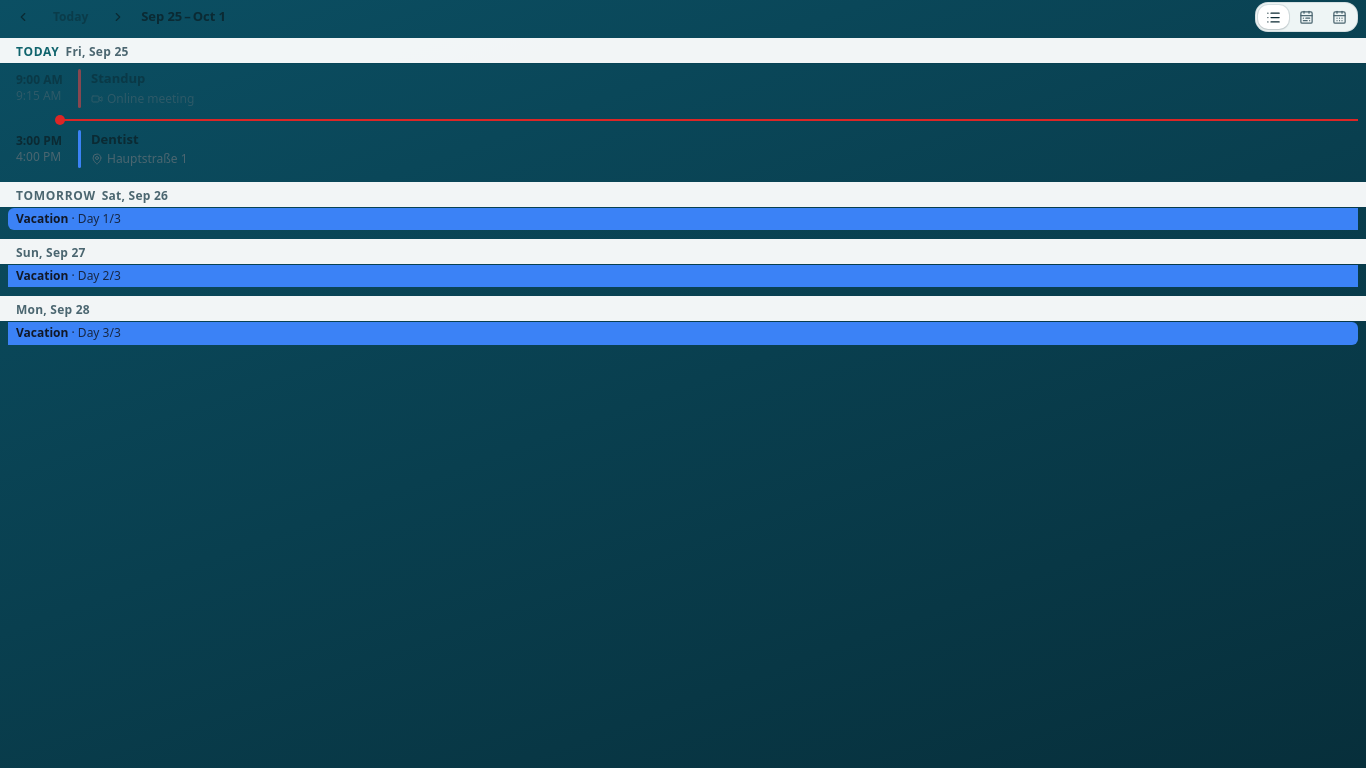
CalendarWidget — writes › deletes after confirmation from the popover
Click the button with aria-label "Dentist, " at (39, 140), box [8,124,1358,174]
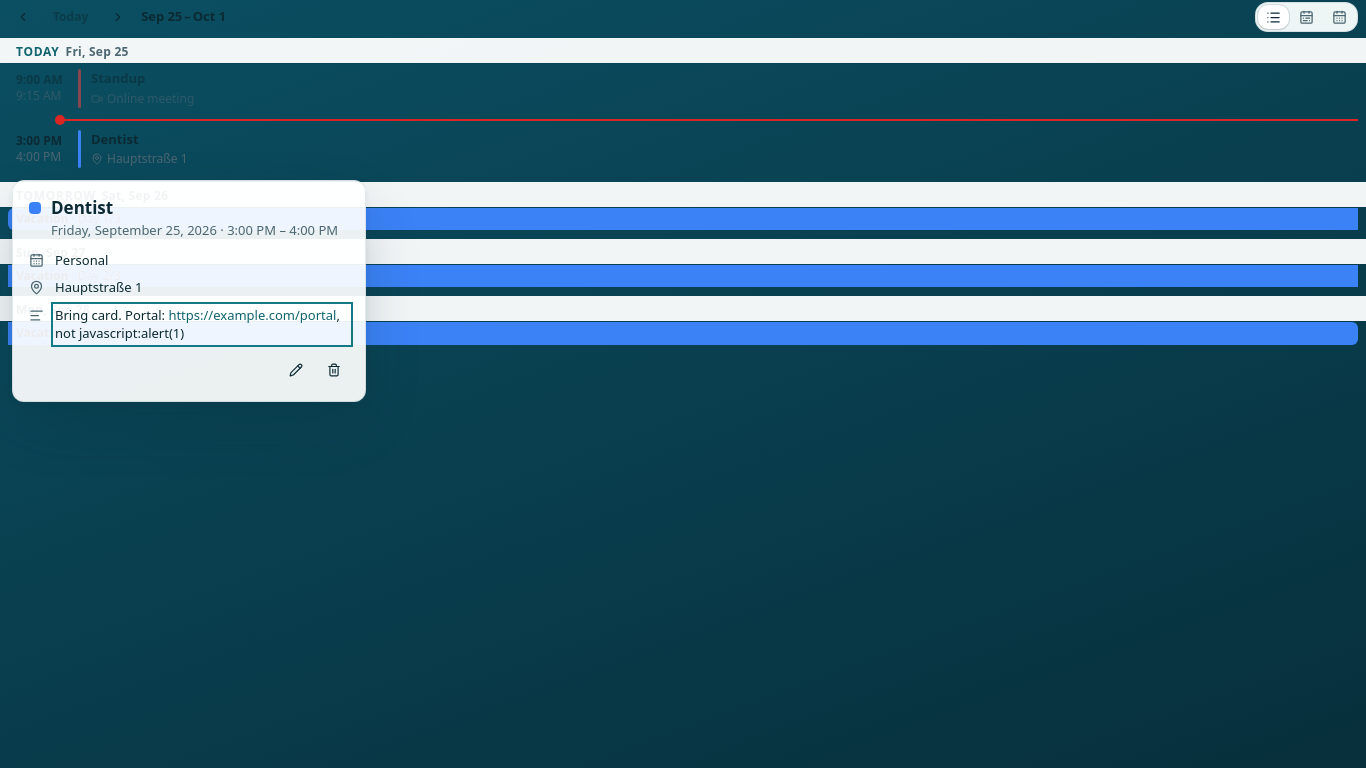
Click the button named "Delete event" at (334, 370), box [319,355,349,385]
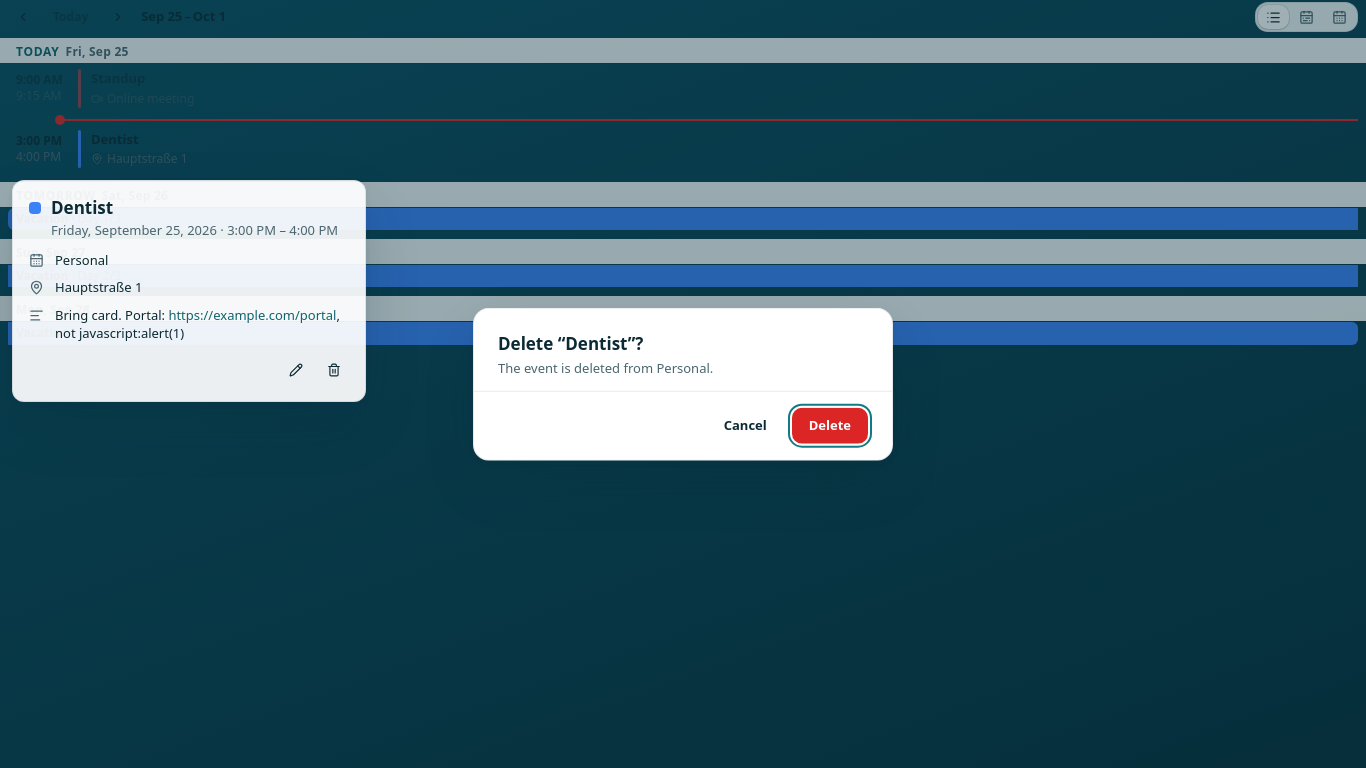
Click the button "Delete" at (830, 425), box [792,407,868,443]
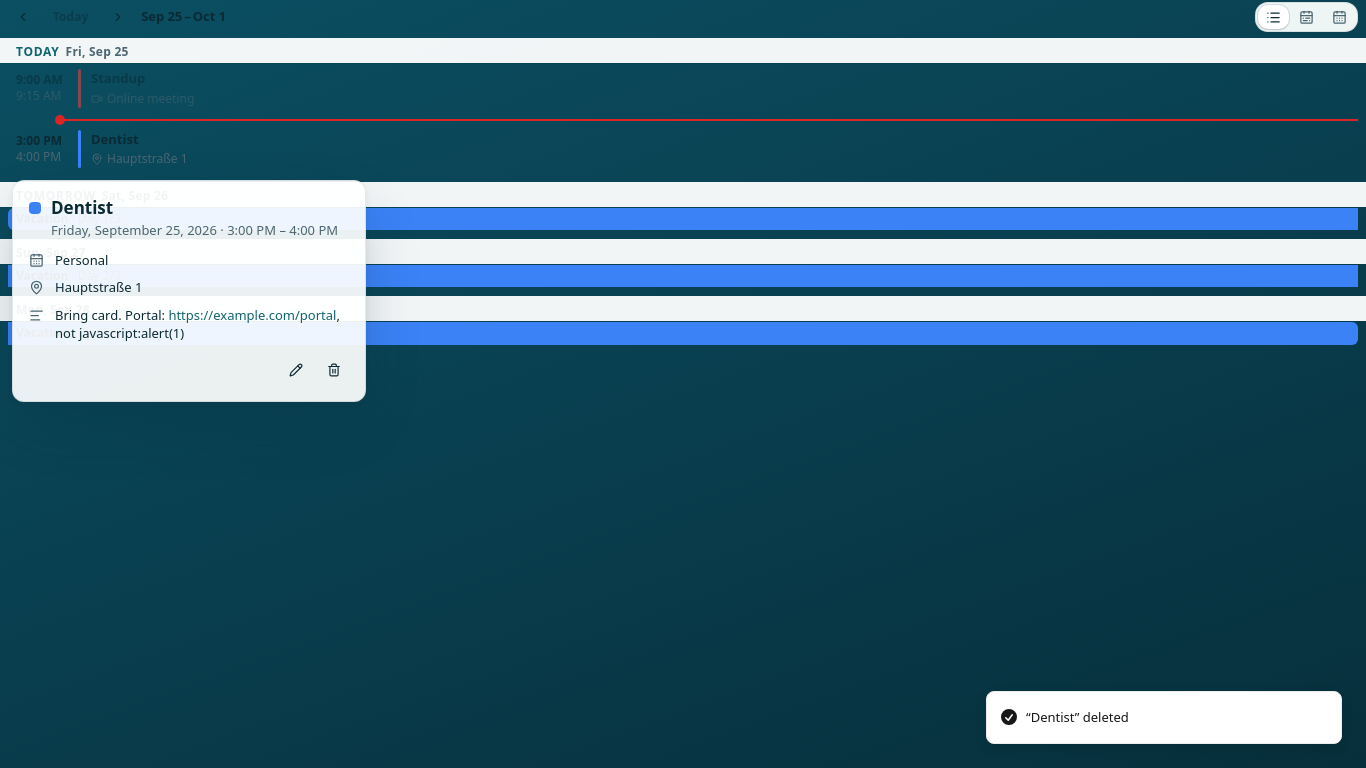
Check: the text "“Dentist” deleted" is shown, box [1026,708,1129,727]
